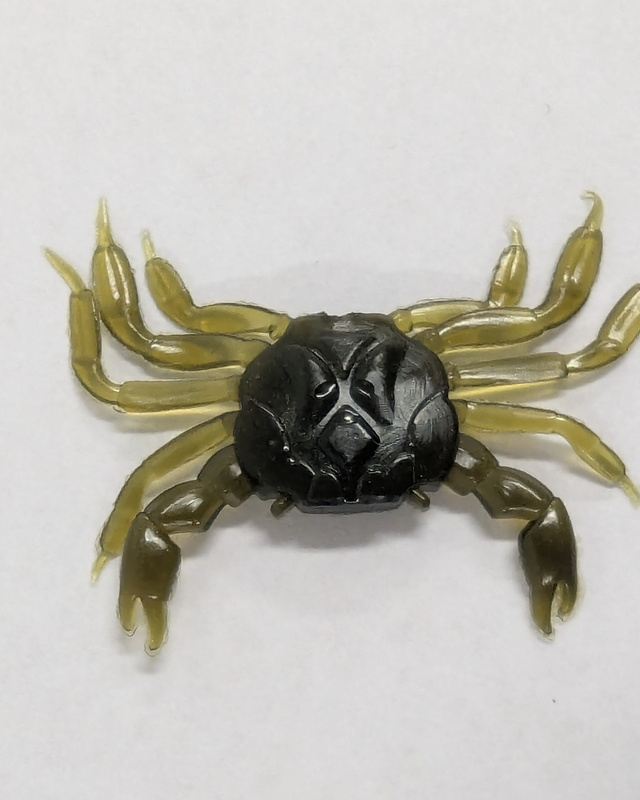crab2: (41, 190, 640, 654)
